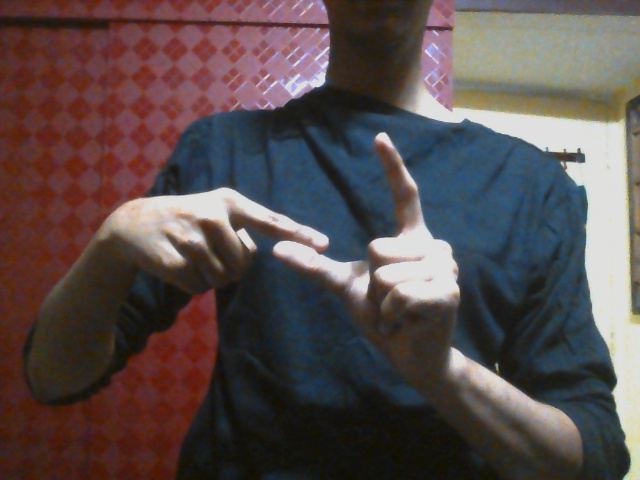J: (106, 131, 464, 360)
